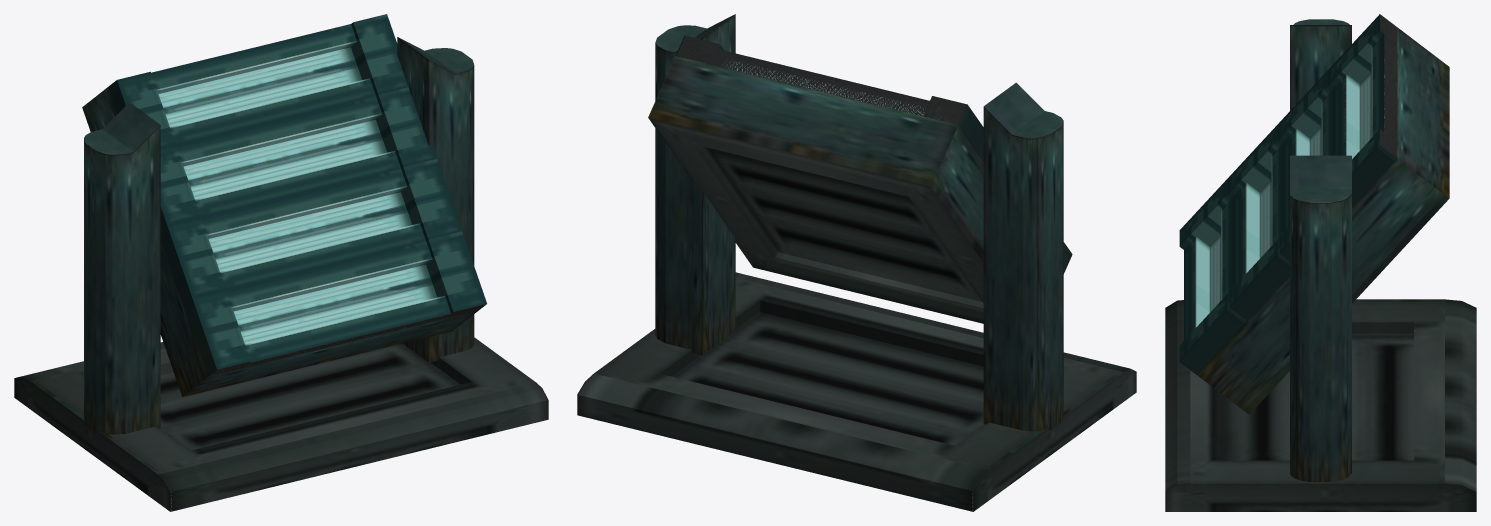
File: reflector.fbx
3 views of the same model, side by side, from view 1: azimuth 30°, elevation 25°; view 2: azimuth 150°, elevation 25°; view 3: azimuth 270°, elevation 25° (orthographic). The views are drawn at different scales.
Visible parts, largest first — view 1: Cube; view 2: Cube; view 3: Cube.
Part boxes in pixels (x1,y1,x2,y2): Cube: [14, 14, 548, 511]; Cube: [577, 14, 1136, 511]; Cube: [1165, 14, 1476, 511].
Bounding box in the file's own units: 141 × 120 × 100.
Materials: 3 (3 with a texture image).
